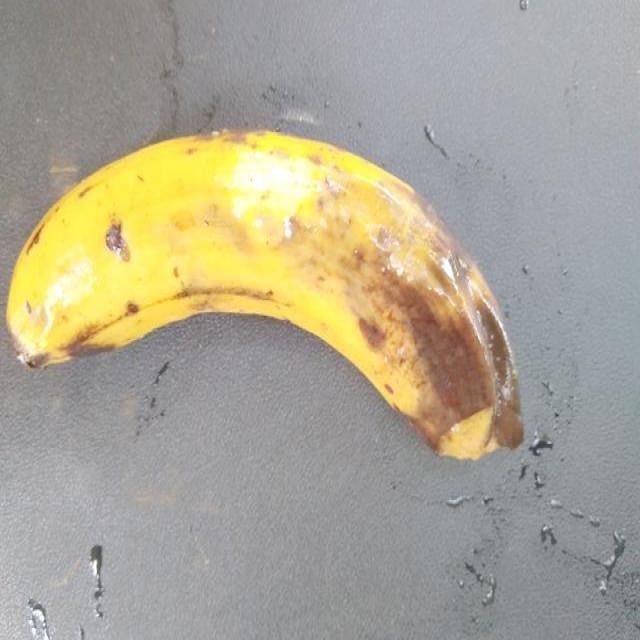Podre: (4, 119, 544, 492)
